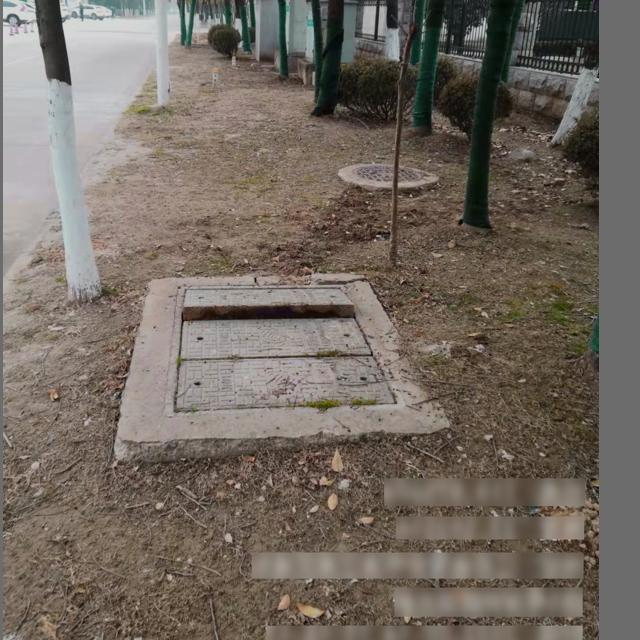good: (349, 165, 441, 191)
uncovered: (164, 279, 408, 420)
